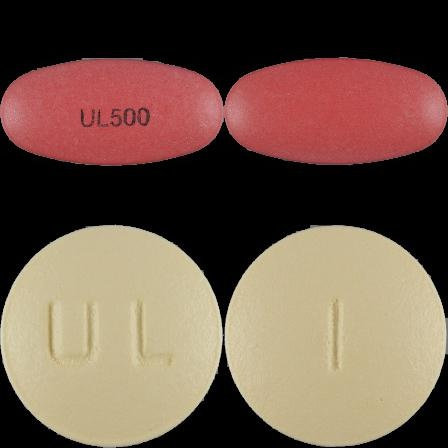29300-140: (0, 0, 224, 224)
